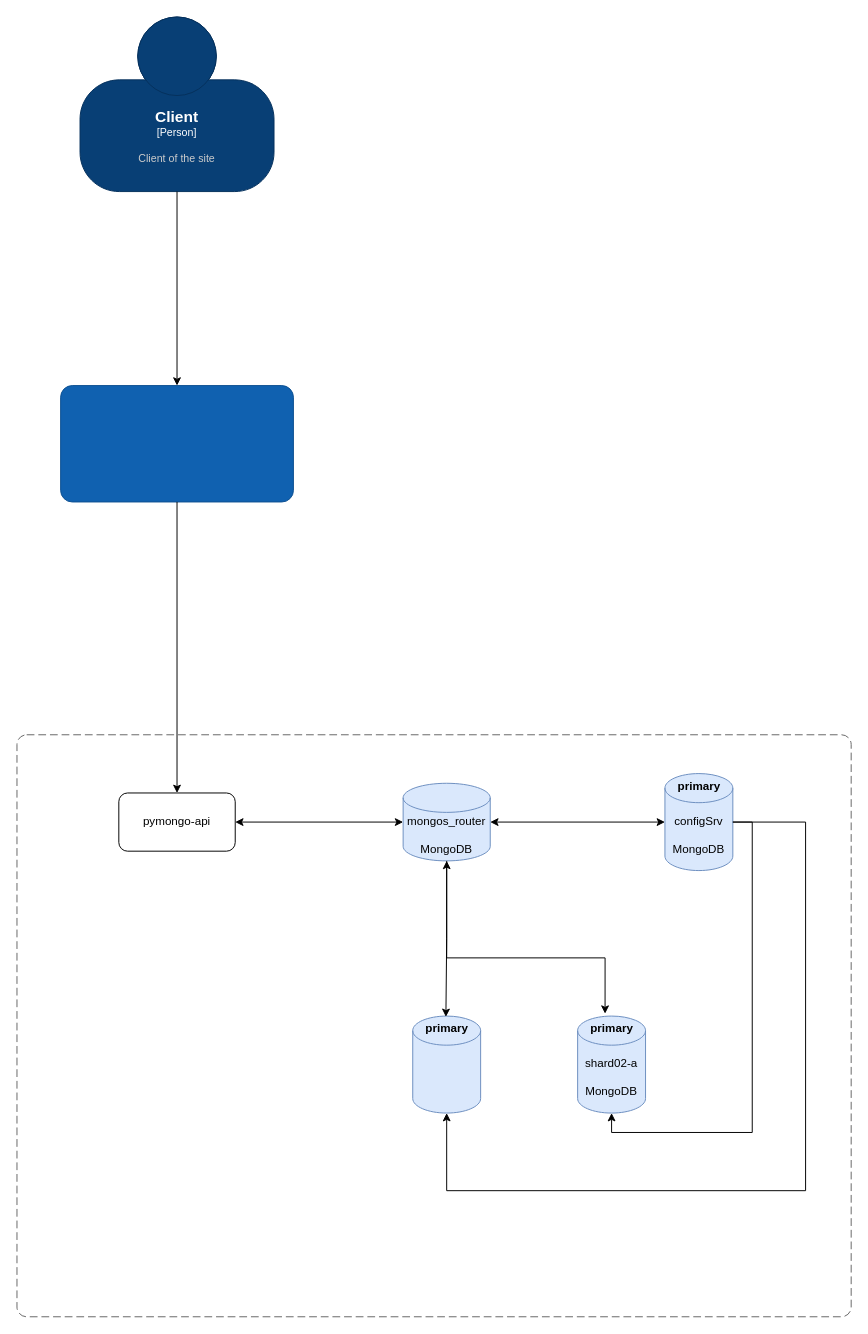
Some shapes in this 868 by 1334 pixel diagram are drawn without their labels. Here are the shapes that lost their labels. From the top down, the box of each, then its label:
(60, 385, 293, 502): WebSite/NGingx [Software System] Public Site
(16, 734, 851, 1317): pymongo-api instance [Software System]
(412, 1015, 481, 1113): shard1 MongoDB
